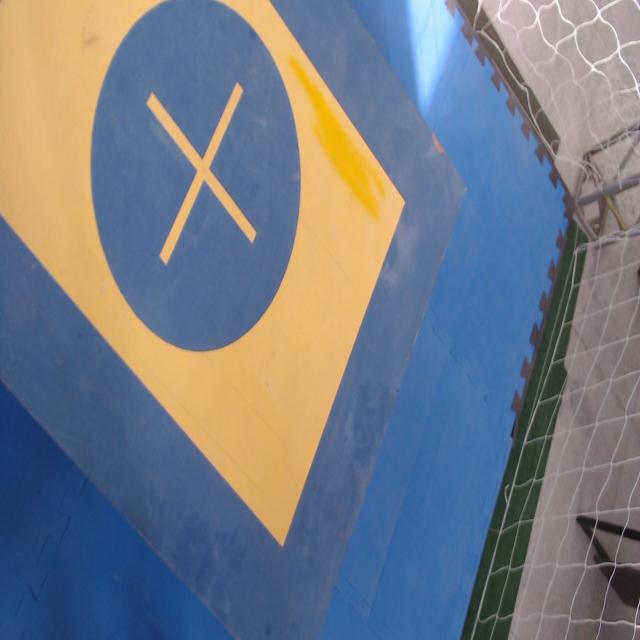base_inicio: (0, 0, 406, 546)
